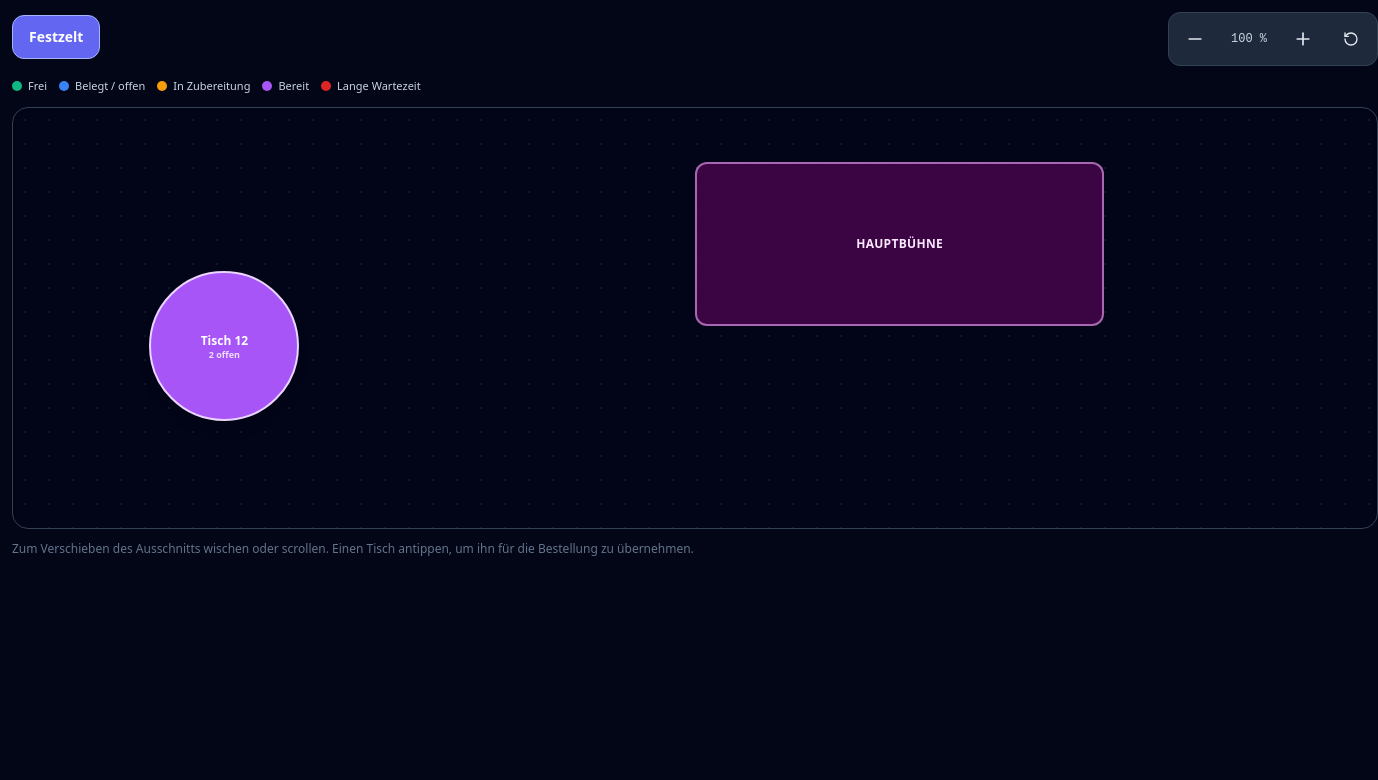
Test case: FloorPlanViewer › bietet bedienbare Zoomschritte und einen Reset
Click the button named "Raumplan vergrößern" at (1303, 39), box [1281,17,1325,61]
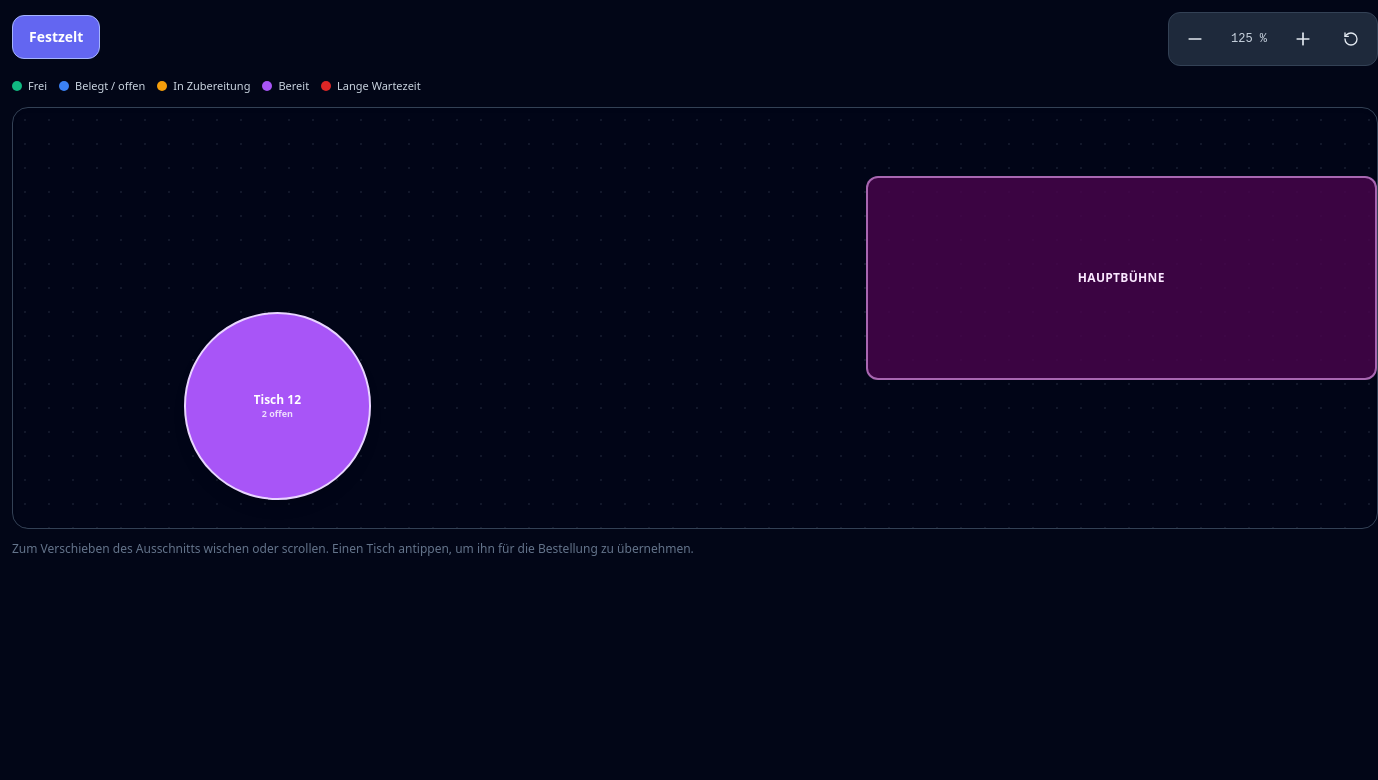
Now the text "125 %" is shown, box [1231,32,1267,46]
Click the button named "Zoom zurücksetzen" at (1351, 39), box [1329,17,1373,61]
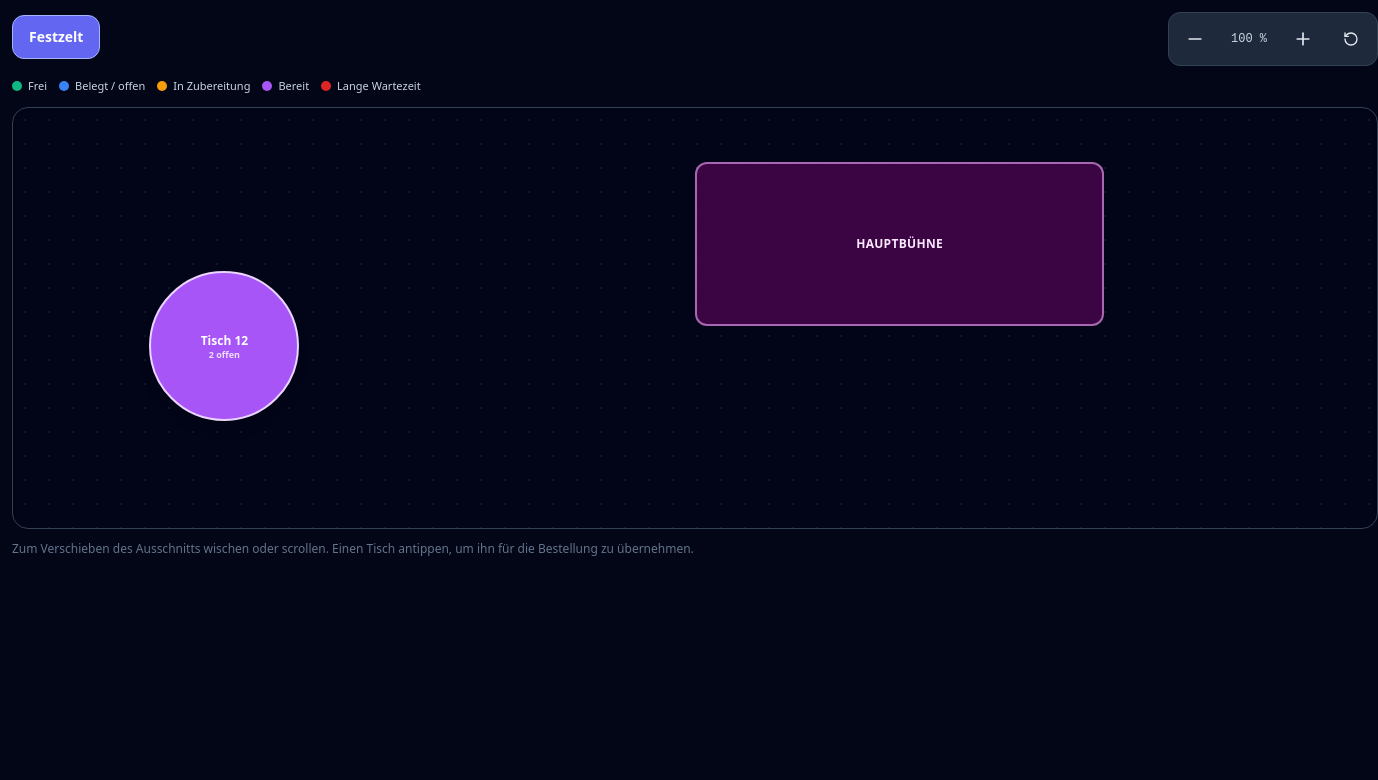
Now the text "100 %" is shown, box [1231,32,1267,46]
